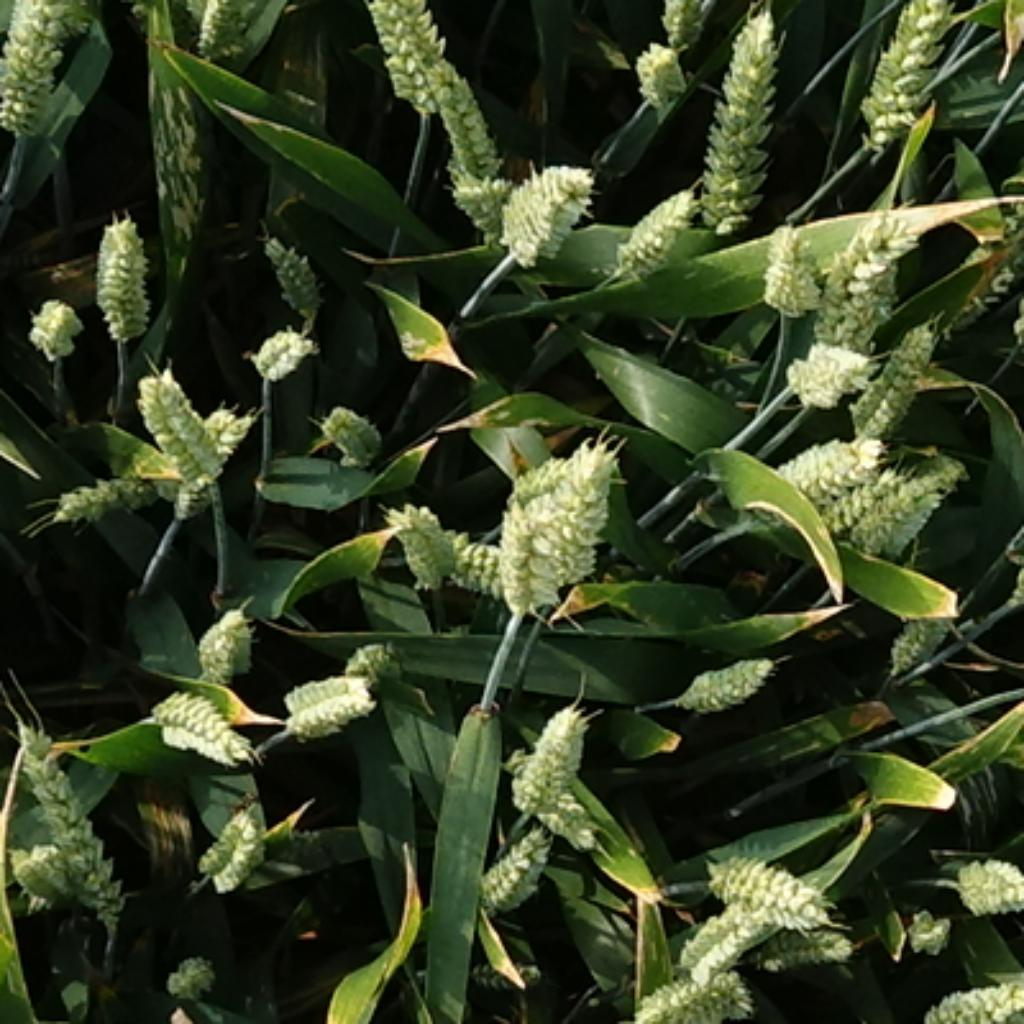0-0: (5, 716, 133, 926), (693, 2, 796, 232), (404, 30, 512, 204), (727, 424, 878, 537), (847, 2, 962, 148), (547, 419, 629, 609), (811, 202, 921, 337), (826, 445, 960, 552), (494, 455, 581, 619), (2, 2, 99, 140), (486, 148, 599, 258), (404, 535, 570, 609), (358, 2, 463, 117), (128, 360, 227, 481), (698, 844, 832, 926), (852, 312, 942, 432), (501, 747, 601, 847), (668, 890, 796, 965), (624, 952, 757, 1024), (89, 204, 158, 337), (174, 396, 248, 517), (611, 174, 701, 273), (143, 675, 250, 757), (381, 491, 473, 586), (468, 811, 555, 911), (519, 691, 591, 811), (670, 637, 780, 709), (48, 458, 168, 522), (279, 657, 378, 732), (811, 463, 916, 532), (197, 796, 276, 883), (442, 161, 517, 245), (780, 327, 870, 396), (883, 596, 967, 668), (258, 225, 327, 312), (757, 220, 824, 309), (734, 916, 855, 965), (2, 839, 76, 919), (944, 842, 1024, 911), (189, 599, 261, 675), (314, 391, 391, 460), (181, 2, 271, 61), (248, 314, 320, 376), (629, 33, 691, 102), (469, 958, 558, 1001), (25, 289, 84, 353), (650, 2, 721, 48), (158, 944, 220, 995), (898, 898, 954, 952), (343, 632, 404, 678)
